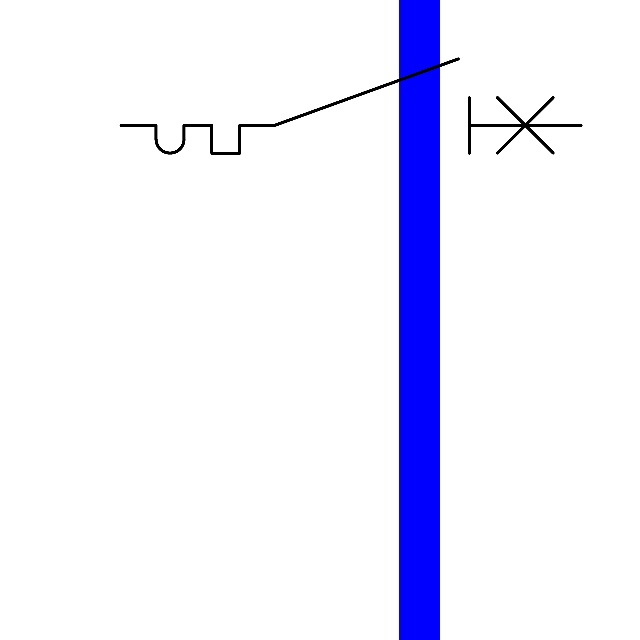interruptor_termomagnetico: (109, 47, 592, 165)
